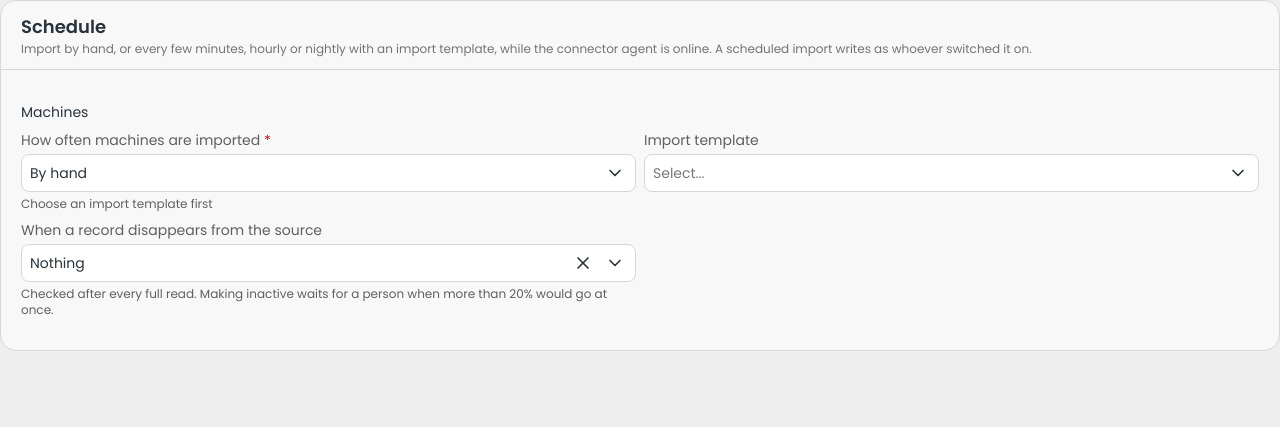
Test: reading only what changed, on a schedule (AG4) › offers every few minutes for a database table and says it reads only the changes
The width and height of the screenshot is (1280, 427).
Click the dropdown labelled "Import template" at (934, 173), box [653,162,1214,184]
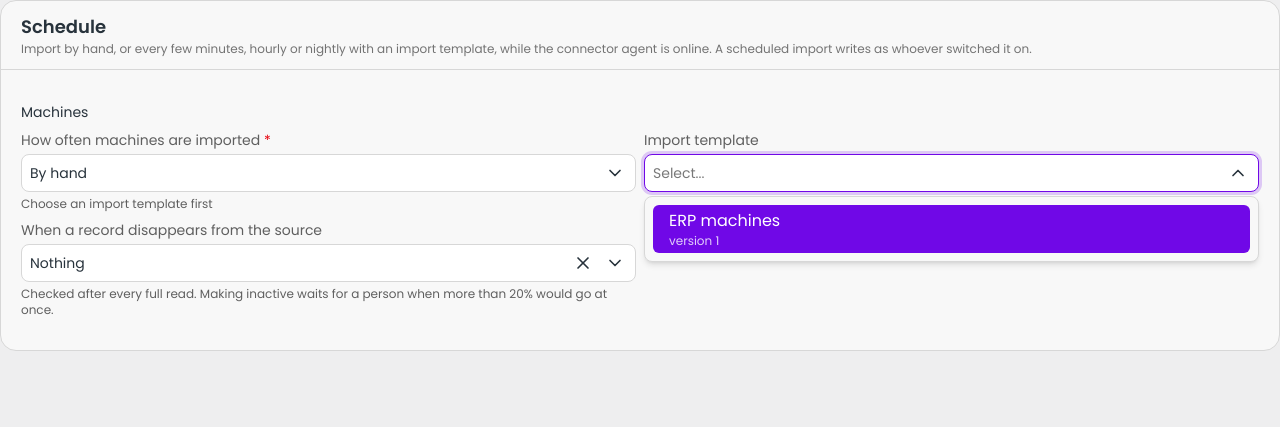
Click the option "ERP machines version 1" at (952, 229), box [645,201,1258,257]
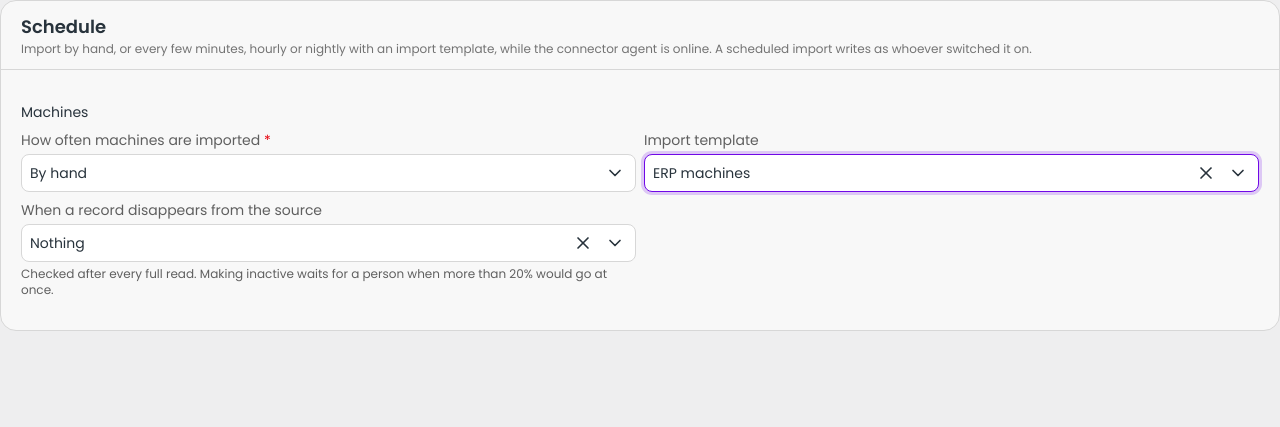
Click the dropdown labelled "How often machines are imported" at (310, 173), box [30,162,591,184]
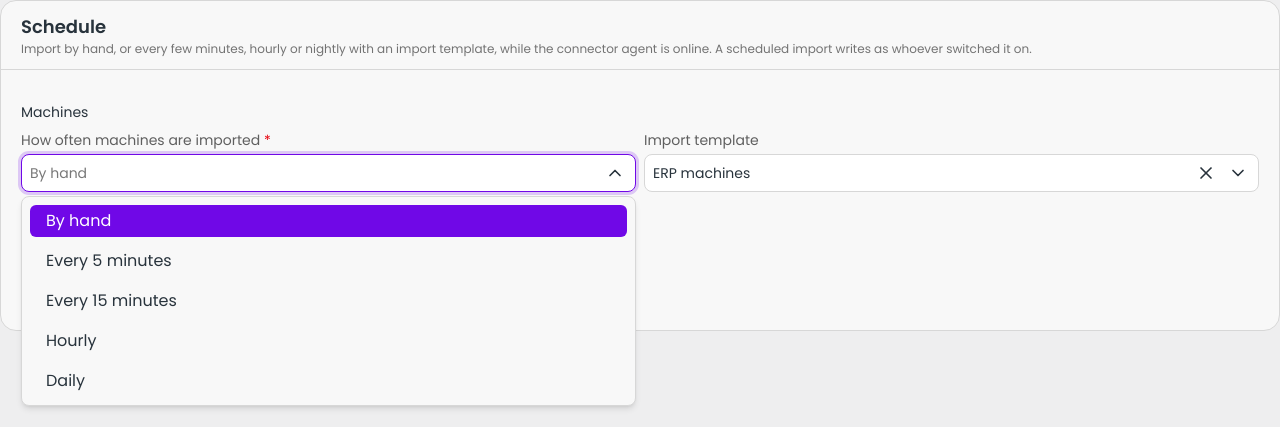
Click the option "Every 15 minutes" at (111, 300), box [46,289,177,312]
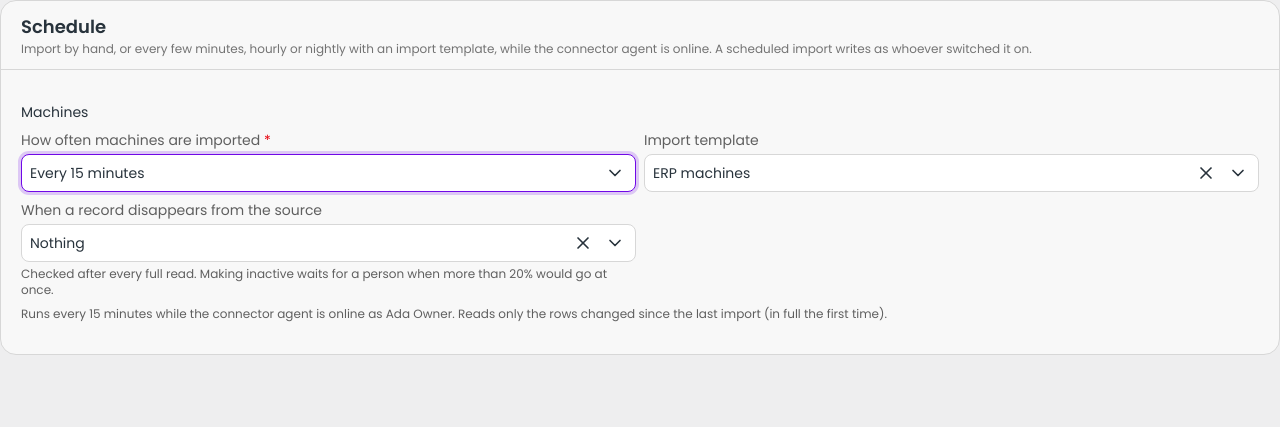
Expected: the text "Runs every 15 minutes while the connector agent is online as Ada Owner" is shown, [21,305,887,322]
Expected: the text "Reads only the rows changed since the last import" is shown, [458,305,887,322]
